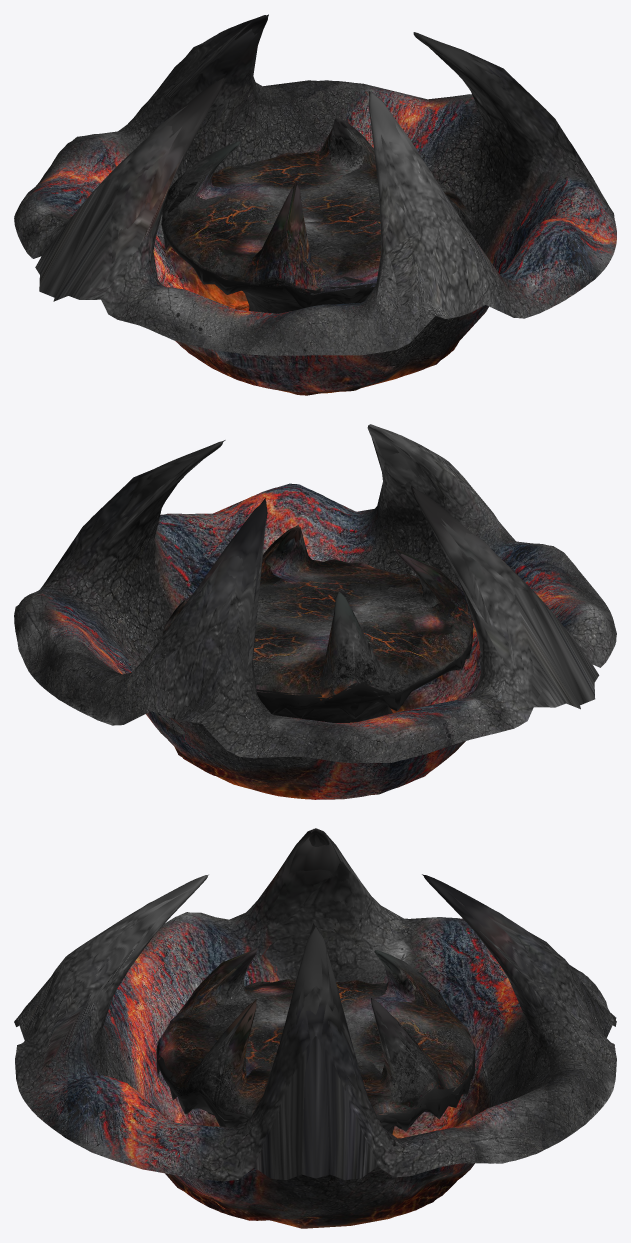
3 renders of one model, top to bottom at view 1: azimuth 30°, elevation 25°; view 2: azimuth 150°, elevation 25°; view 3: azimuth 270°, elevation 25°, orthographic. The views are drawn at different scales.
Visible parts, largest first — view 1: stone_7, stone2_9, stone1_8; view 2: stone_7, stone2_9, stone1_8; view 3: stone_7, stone2_9, stone1_8.
Part boxes in pixels (x1,y1,x2,y2): stone_7: [14, 15, 616, 394]; stone2_9: [14, 14, 614, 393]; stone1_8: [14, 15, 616, 395]; stone_7: [14, 424, 615, 799]; stone2_9: [14, 425, 616, 799]; stone1_8: [14, 424, 616, 799]; stone_7: [15, 829, 616, 1226]; stone2_9: [14, 829, 616, 1228]; stone1_8: [15, 828, 616, 1226].
Size of what is drawn, in the model's own units: 8.33 by 4.49 by 8.01.
2 materials, 2 textured.
